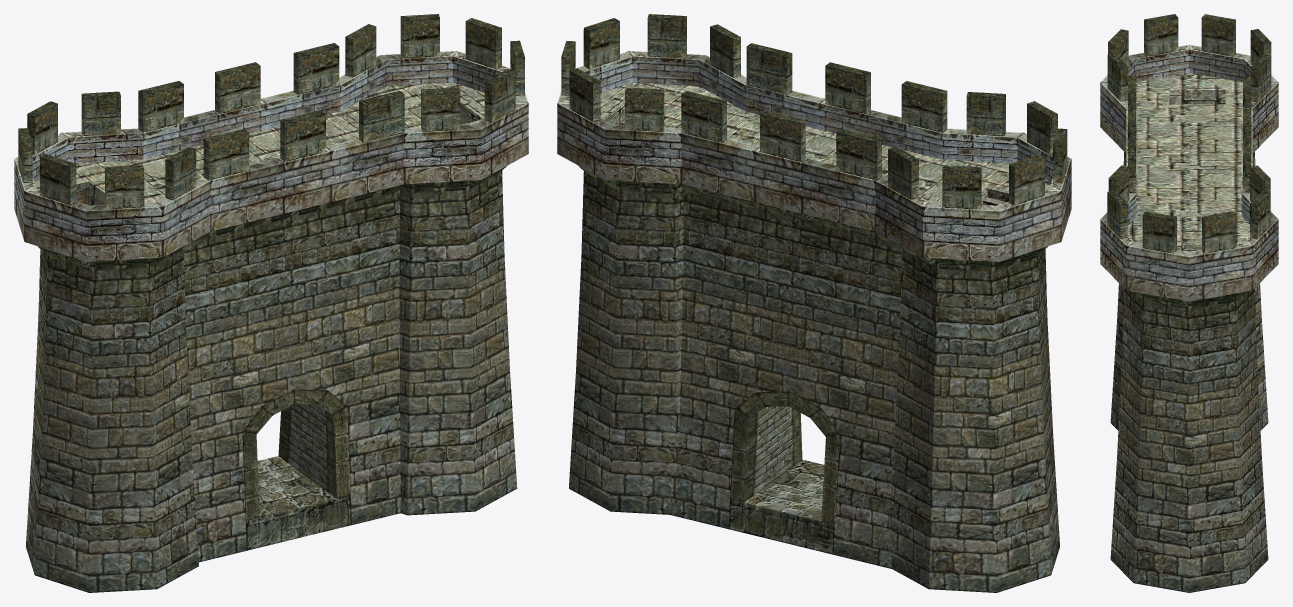
3 renders of one model, left to right at view 1: azimuth 30°, elevation 25°; view 2: azimuth 150°, elevation 25°; view 3: azimuth 270°, elevation 25°, orthographic. The views are drawn at different scales.
Parts seen in each view (by area): view 1: cc17-col; view 2: cc17-col; view 3: cc17-col.
Boxes of the visible parts, x1,y1,x2,y2 form: cc17-col: (14,14,528,592); cc17-col: (557,14,1071,592); cc17-col: (1100,14,1278,592).
Size of the model in its own units: 17.85 by 14.68 by 6.35.
15 materials, 15 textured.
